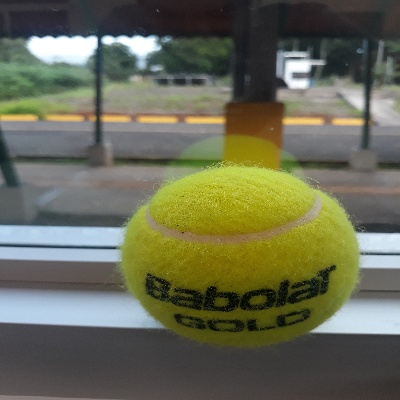Ball: (120, 164, 360, 349)
